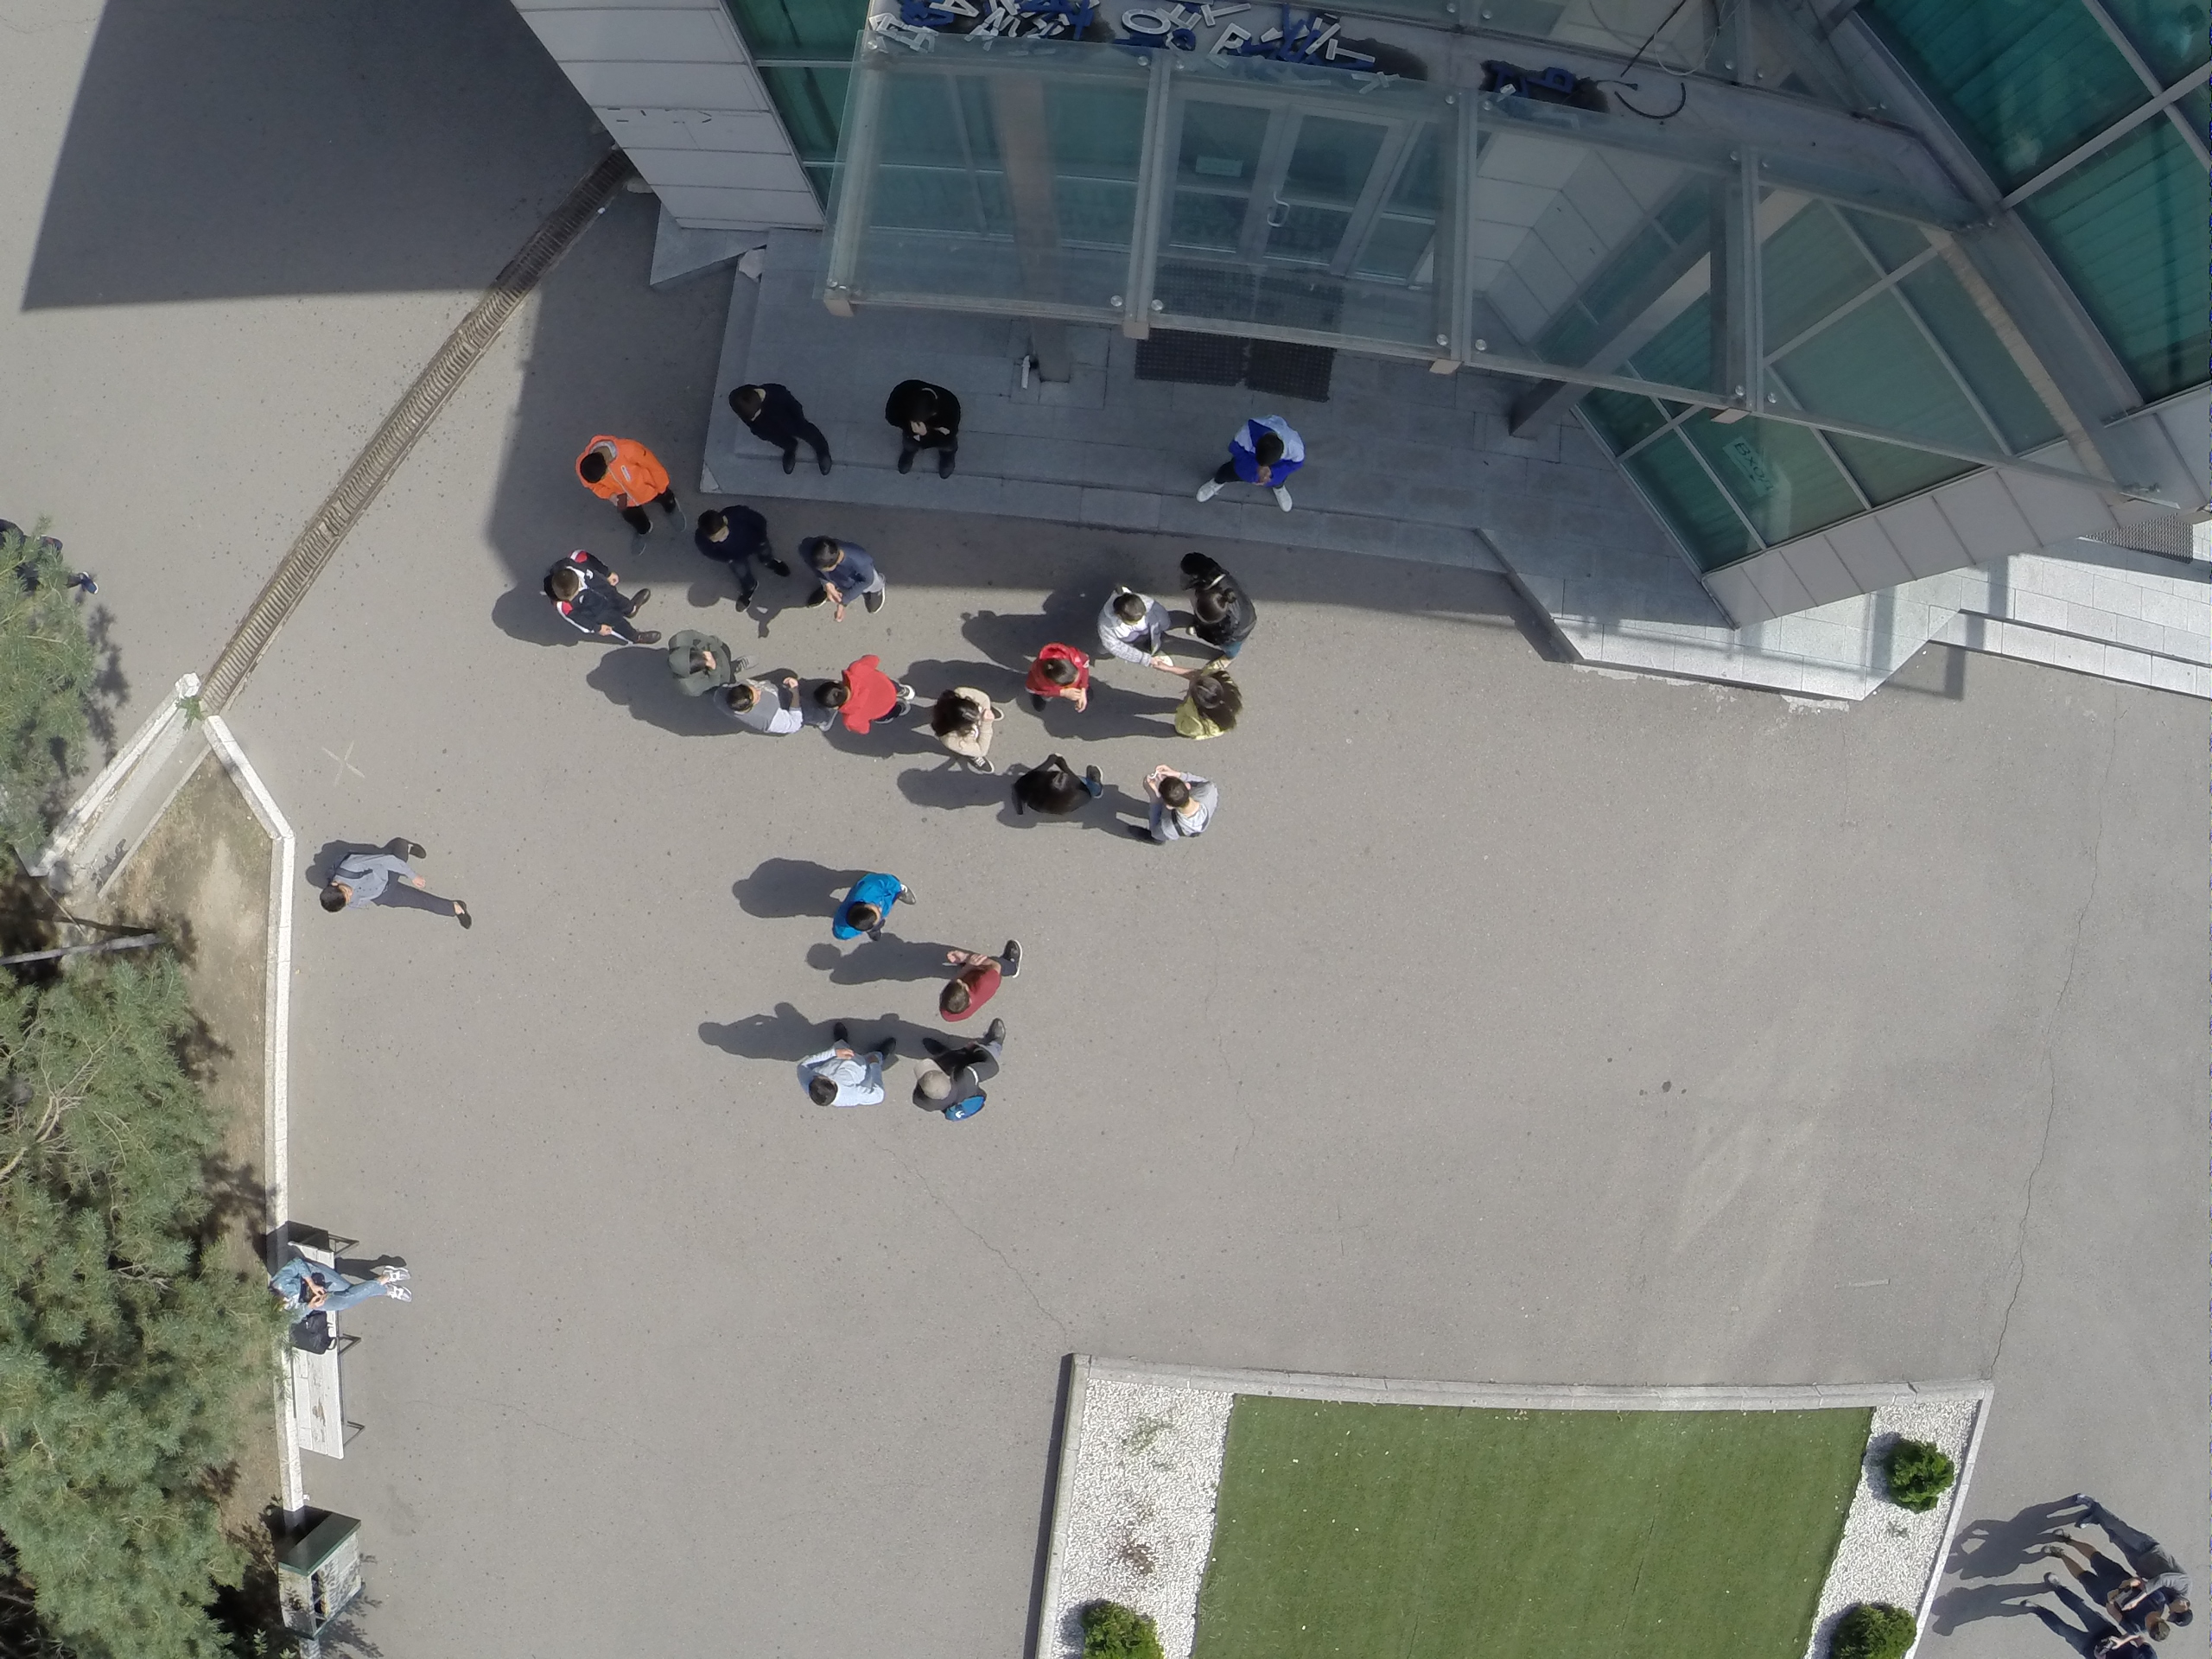person: (317, 828, 474, 931), (578, 433, 689, 556), (540, 550, 667, 650), (1195, 408, 1306, 522), (730, 380, 833, 481), (693, 503, 785, 613), (269, 1254, 412, 1322), (1174, 546, 1261, 661), (912, 1014, 1006, 1118), (792, 1020, 900, 1109), (936, 931, 1027, 1027), (797, 532, 887, 626), (884, 376, 963, 482), (817, 652, 914, 738), (1135, 763, 1224, 846), (931, 683, 1003, 784), (1007, 745, 1107, 813), (665, 627, 756, 698), (1164, 664, 1243, 743), (830, 871, 915, 943), (717, 676, 806, 739), (1103, 582, 1166, 669), (1025, 645, 1097, 714)
